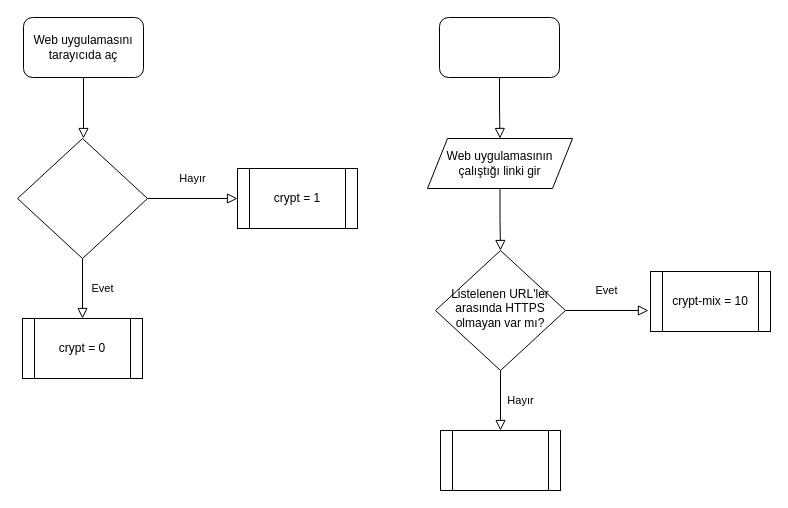
Some shapes in this 788 by 508 pixel diagram are drawn without their labels. Here are the shapes that lost their labels. From the top down, the centre of each, then its label:
[499,47]: extract-urls.py script'ini çalıştır
[82,198]: Web uygulaması HTTPS'te mi çalışıyor
[500,460]: crypt-mix = 0
